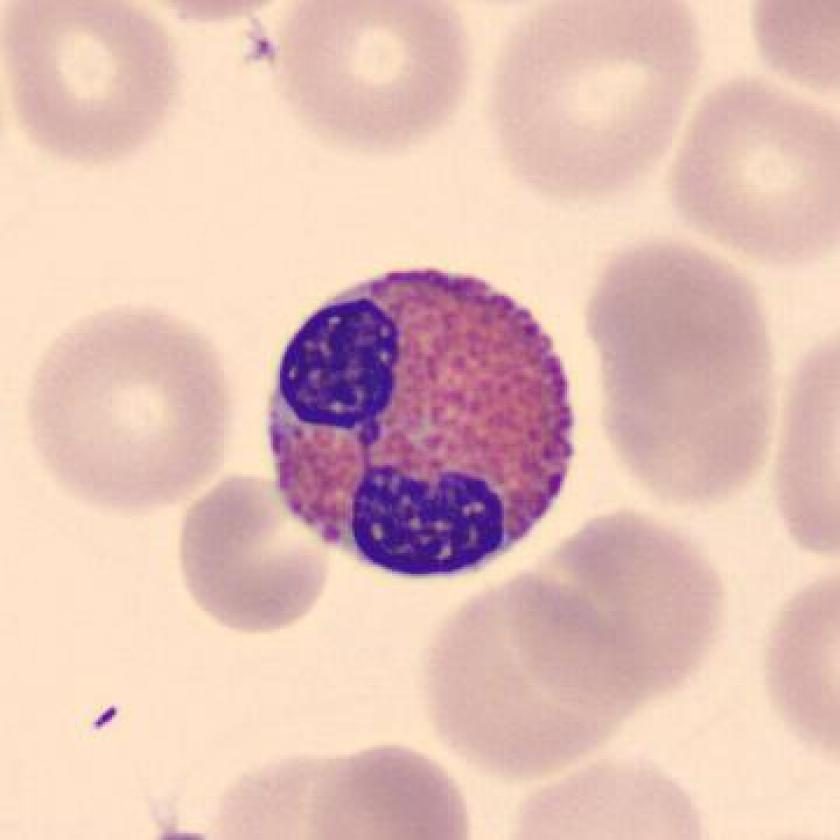eosinophil: (253, 253, 591, 591)
